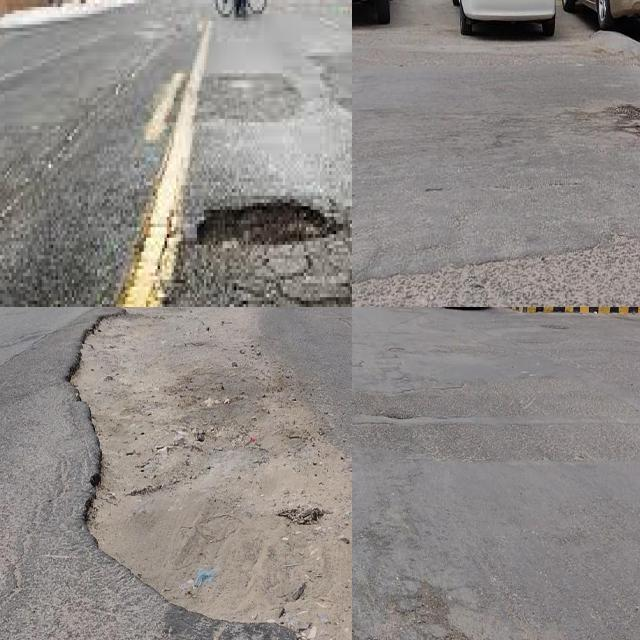Pothole: (77, 449, 149, 548), (197, 199, 343, 245), (64, 338, 114, 398), (86, 307, 128, 341), (612, 103, 640, 121)
